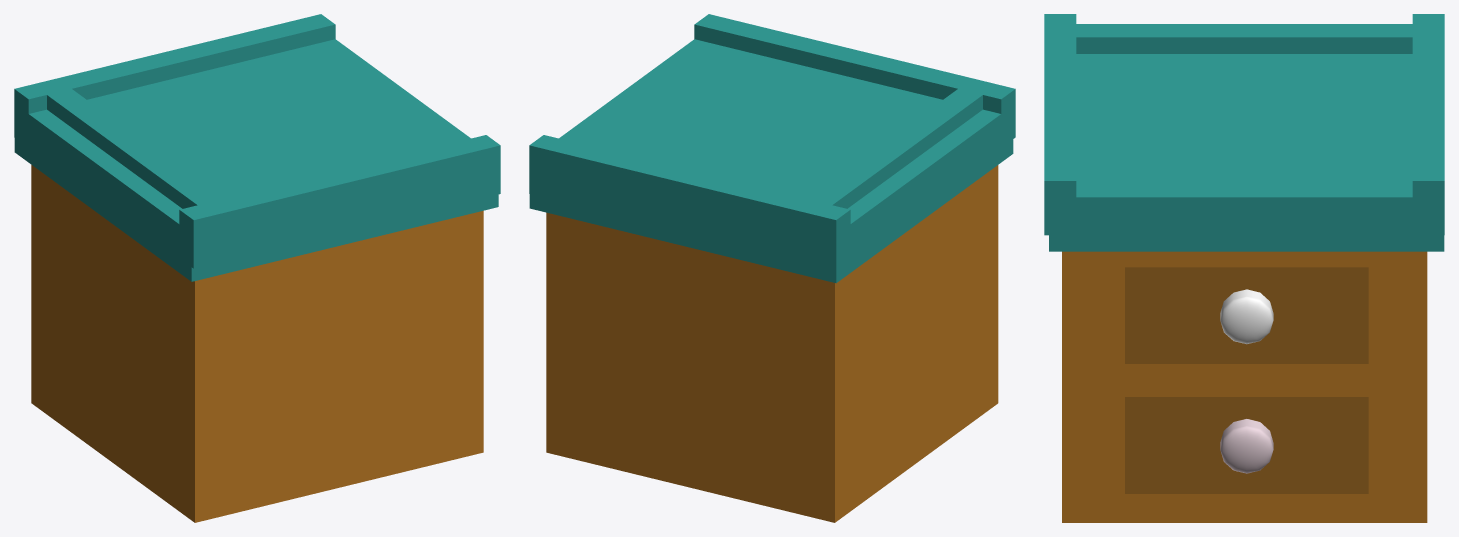
File: mesadecocina.fbx
3 views of the same model, side by side, from view 1: azimuth 30°, elevation 25°; view 2: azimuth 150°, elevation 25°; view 3: azimuth 270°, elevation 25° (orthographic). The views are drawn at different scales.
Parts seen in each view (by area): view 1: Box6.001, Box6.002, Box6.003, Box6.004, Box6.005; view 2: Box6.001, Box6.002, Box6.004, Box6.003, Box6.005; view 3: Box6.002, Box6.001, Plane.002, Plane.001, Box6.005, Box6.003, Box6.004, Capsule2, Capsule2.005.
Boxes of the visible parts, bbox=[...] form: Box6.001: bbox=[31, 165, 483, 522]; Box6.002: bbox=[14, 39, 498, 281]; Box6.003: bbox=[179, 135, 500, 268]; Box6.004: bbox=[14, 14, 335, 147]; Box6.005: bbox=[35, 80, 232, 208]; Box6.001: bbox=[546, 165, 998, 522]; Box6.002: bbox=[529, 39, 1013, 283]; Box6.004: bbox=[529, 135, 850, 268]; Box6.003: bbox=[694, 14, 1015, 147]; Box6.005: bbox=[796, 78, 996, 213]; Box6.002: bbox=[1049, 54, 1444, 251]; Box6.001: bbox=[1062, 251, 1427, 522]; Plane.002: bbox=[1125, 267, 1368, 363]; Plane.001: bbox=[1125, 397, 1368, 493]; Box6.005: bbox=[1045, 24, 1440, 53]; Box6.003: bbox=[1044, 14, 1076, 235]; Box6.004: bbox=[1412, 14, 1444, 235]; Capsule2: bbox=[1220, 289, 1273, 344]; Capsule2.005: bbox=[1220, 419, 1273, 473].
Bounding box in the file's own units: 385 × 358 × 375.
